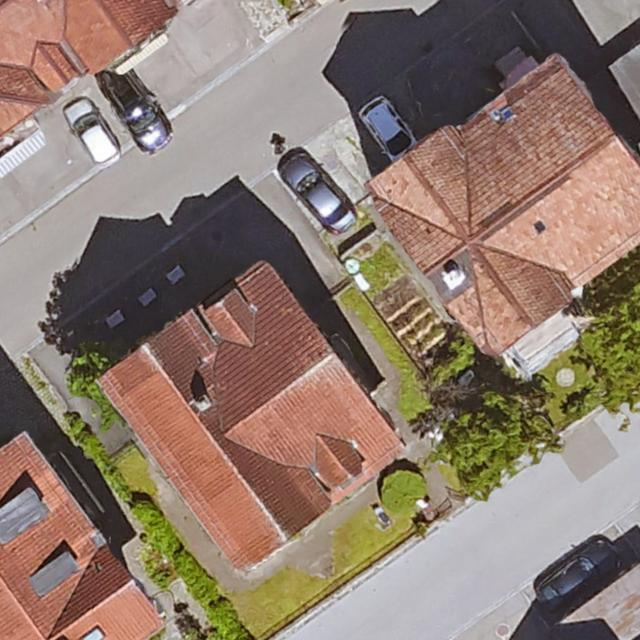tree: (440, 384, 544, 487), (583, 296, 640, 407), (66, 346, 129, 412)
